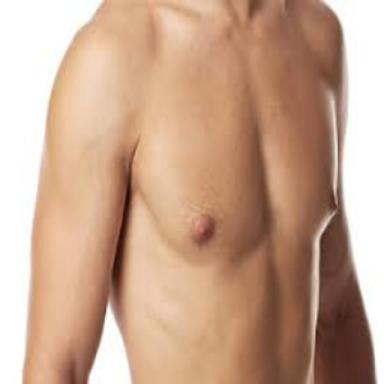normal skin: (24, 0, 373, 384)
